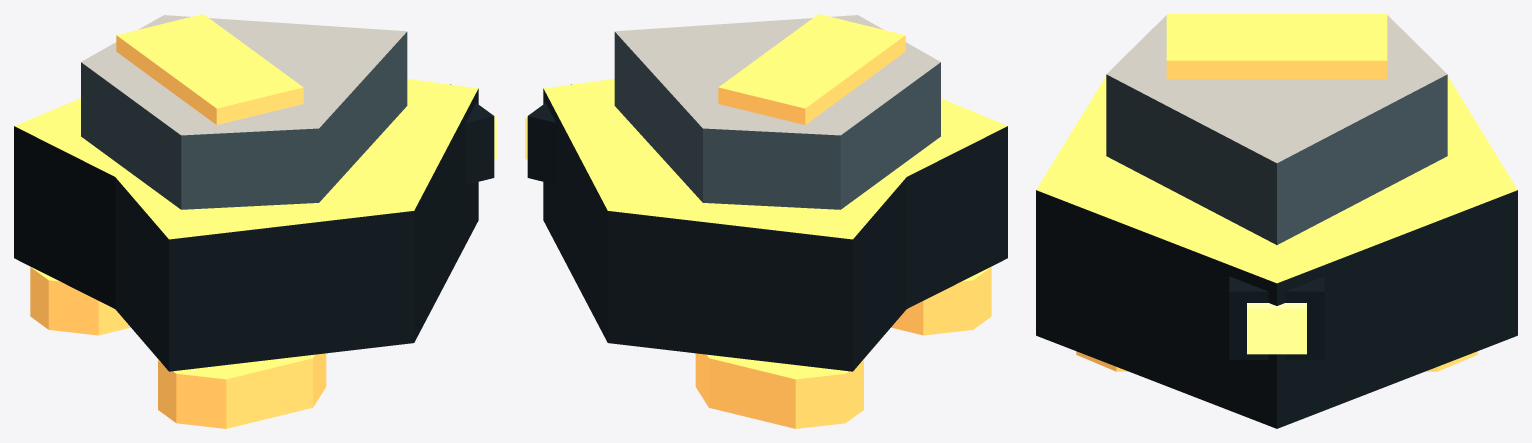
The model's file is drone-amber.glb.
3 views of the same model, side by side, from view 1: azimuth 30°, elevation 25°; view 2: azimuth 150°, elevation 25°; view 3: azimuth 270°, elevation 25° (orthographic). The views are drawn at different scales.
Visible parts, largest first — view 1: drone-amber; view 2: drone-amber; view 3: drone-amber.
Part boxes in pixels (x1,y1,x2,y2): drone-amber: (14, 14, 496, 428); drone-amber: (525, 14, 1007, 428); drone-amber: (1036, 14, 1517, 428).
Size of the model in its own units: 0.496 by 0.342 by 0.48.
